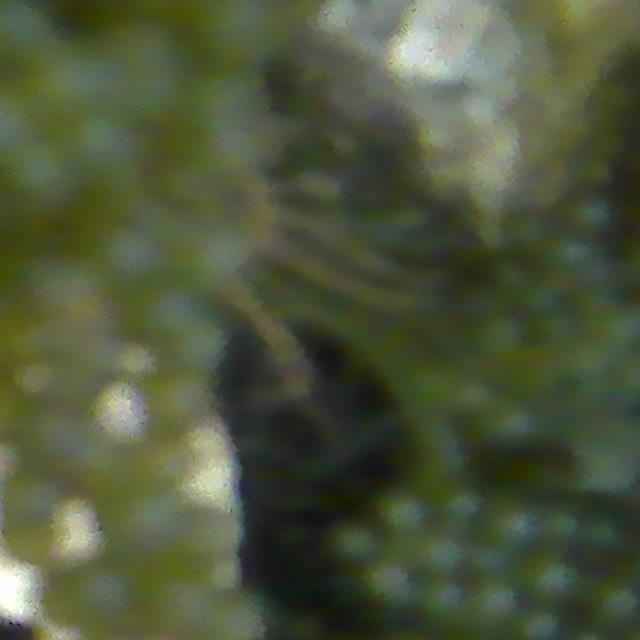SeaGrape: (66, 107, 151, 190), (195, 0, 294, 69), (4, 136, 83, 219), (64, 556, 144, 634), (109, 481, 191, 557), (475, 499, 542, 556), (201, 590, 268, 640), (525, 555, 584, 608), (469, 581, 524, 634), (417, 577, 470, 629), (373, 489, 427, 538), (369, 558, 416, 613), (507, 602, 566, 640), (417, 532, 465, 578), (326, 529, 382, 567), (592, 585, 636, 628), (475, 318, 517, 362), (546, 238, 587, 274), (576, 201, 618, 235)
